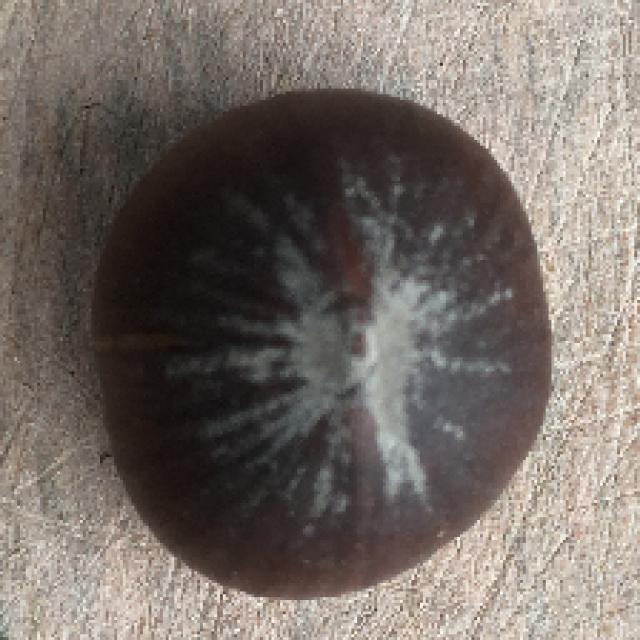damagedHazelnut: (101, 89, 554, 606)
